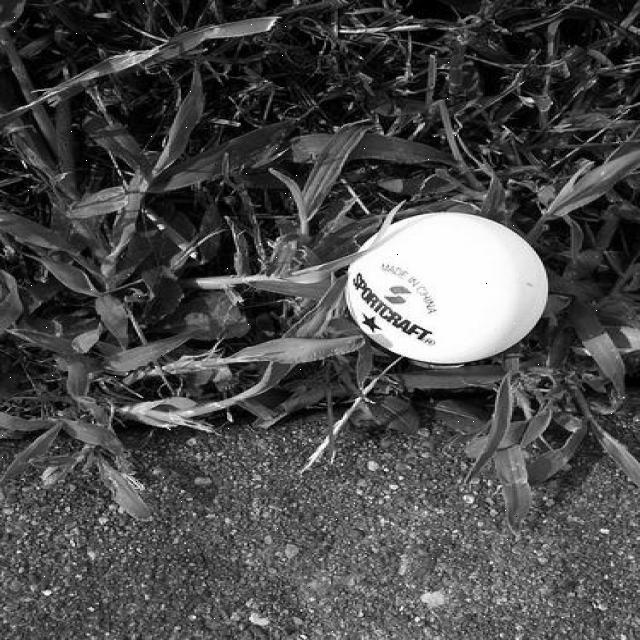ping-pong-ball: (342, 211, 550, 364)
